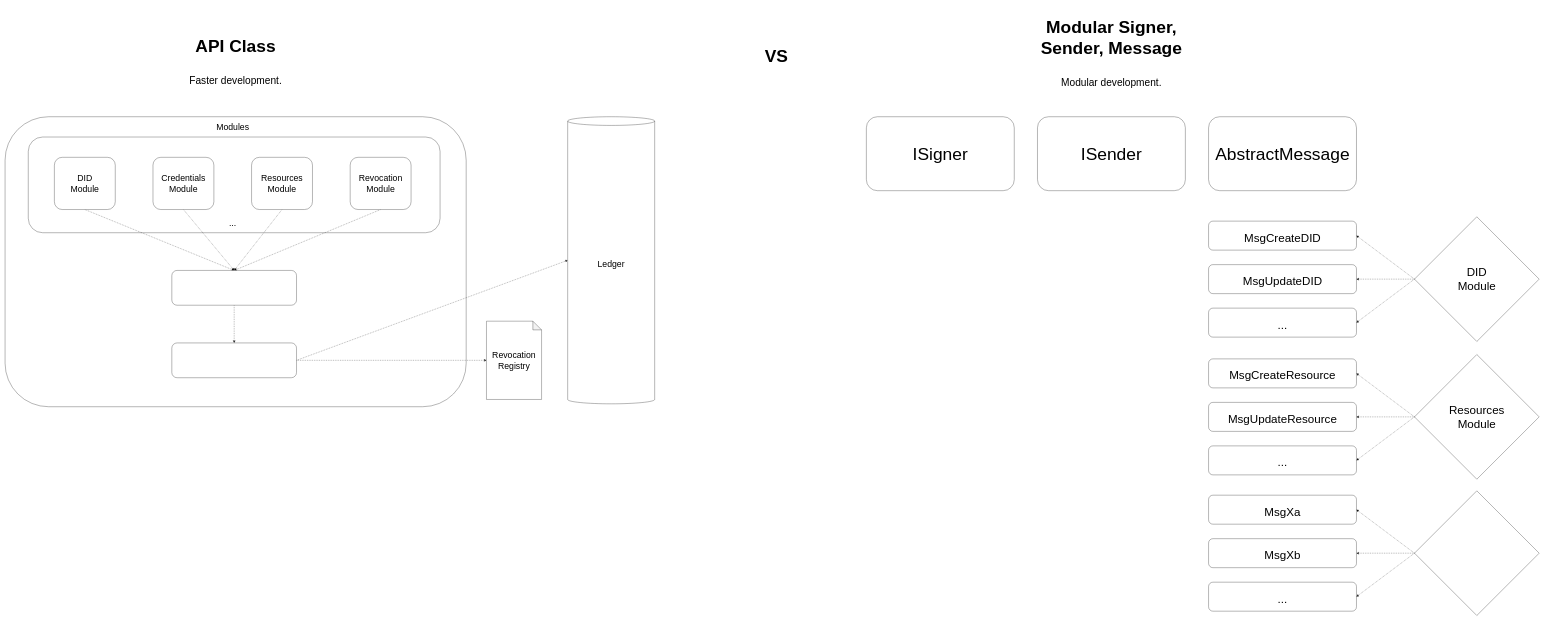
This 1544x621 diagram has some shape labels left out. Each missing label, with the centre of its shape:
"Senders" belongs at point 234,360.
"Signers" belongs at point 234,287.
"X Module" belongs at point 1476,553.
